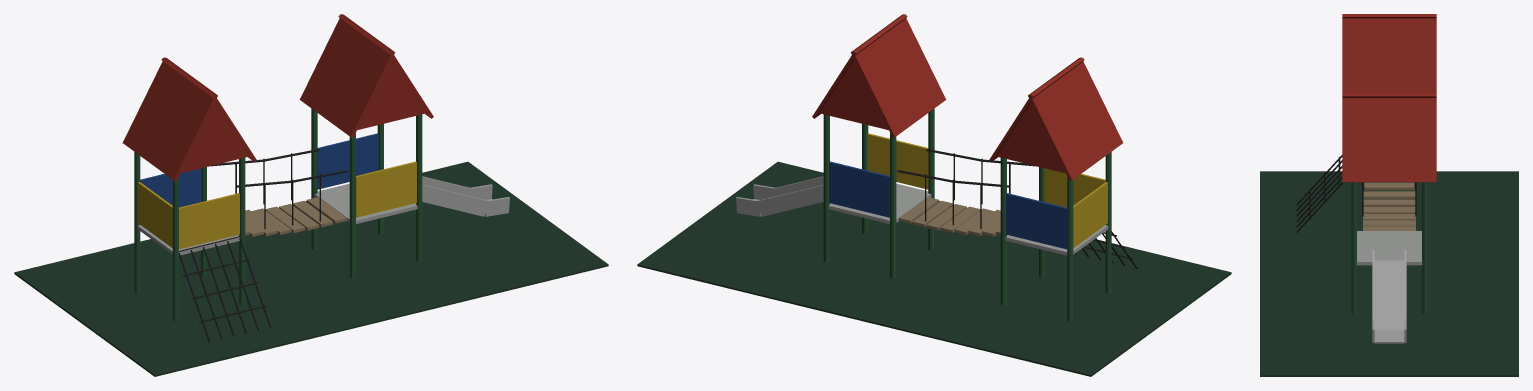
The model's file is SM_Prop_play_climber_0.glb.
3 views of the same model, side by side, from view 1: azimuth 30°, elevation 25°; view 2: azimuth 150°, elevation 25°; view 3: azimuth 270°, elevation 25° (orthographic). The views are drawn at different scales.
Visible parts, largest first — view 1: SM_Prop_play_climber_0; view 2: SM_Prop_play_climber_0; view 3: SM_Prop_play_climber_0.
Part boxes in pixels (x1,y1,x2,y2): SM_Prop_play_climber_0: (14,14,608,376); SM_Prop_play_climber_0: (637,14,1231,376); SM_Prop_play_climber_0: (1260,14,1518,376).
Bounding box in the file's own units: 8.2 × 3.88 × 4.4.
